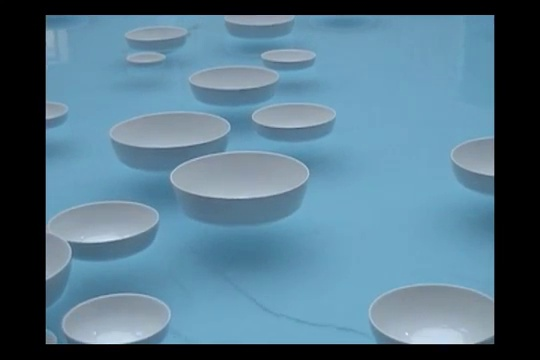bowl: (171, 152, 309, 224), (369, 284, 494, 345), (110, 112, 232, 170), (48, 202, 160, 260), (63, 294, 171, 344), (189, 65, 280, 105), (252, 105, 336, 142), (126, 27, 189, 52), (261, 49, 316, 70), (126, 52, 166, 65)
